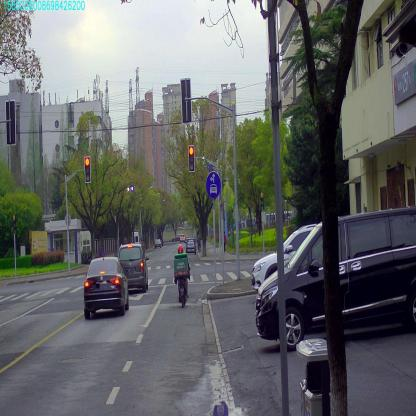traffic-light: (84, 157, 90, 182), (189, 146, 194, 171)
